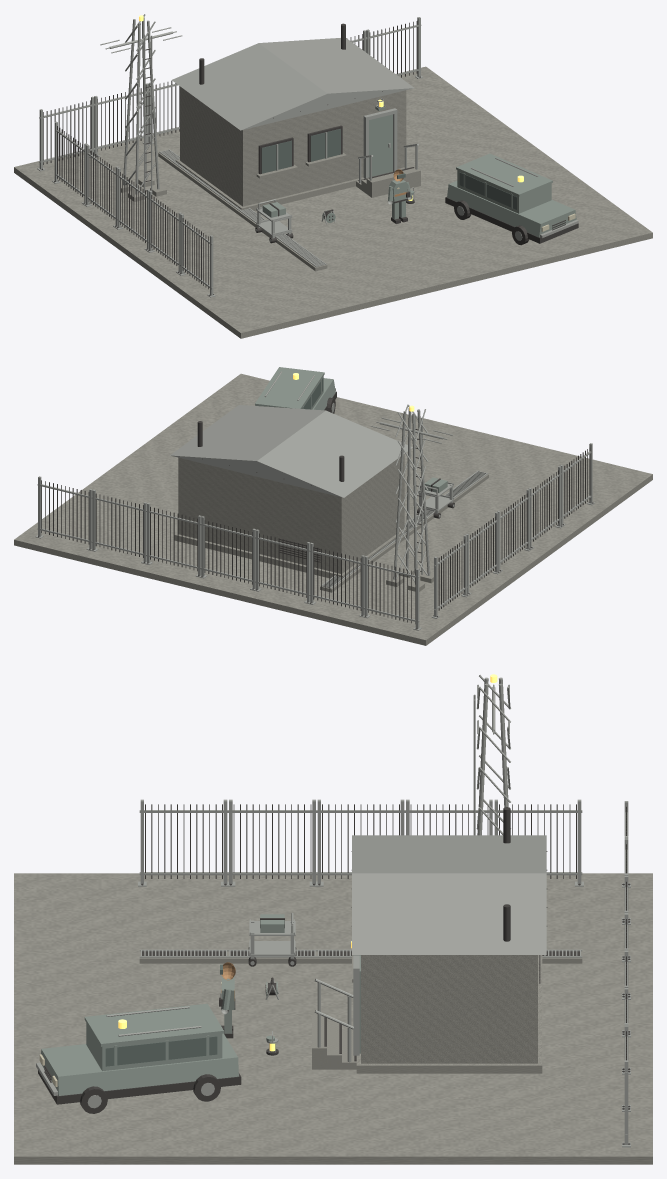
File: signal-house-starter-scene__214.glb
The picture shows the model from 3 angles, top to bottom: view 1: azimuth 30°, elevation 25°; view 2: azimuth 150°, elevation 25°; view 3: azimuth 270°, elevation 25°; orthographic projection. The views are drawn at different scales.
Visible parts, largest first — view 1: terrain-base, 01-signal-house-relay-building/stone, 01-signal-house-relay-building/metal, 04-signal-house-service-wagon/shell, 02-signal-house-relay-mast/metal, 01-signal-house-relay-building/glass, 01-signal-house-relay-building/shell, 04-signal-house-service-wagon/dark, 05-signal-house-perimeter-fence/dark, 18-signal-house-perimeter-fence/dark, 14-signal-house-perimeter-fence/dark, 16-signal-house-perimeter-fence/dark (+19 smaller); view 2: terrain-base, 01-signal-house-relay-building/stone, 01-signal-house-relay-building/metal, 02-signal-house-relay-mast/metal, 04-signal-house-service-wagon/shell, 07-signal-house-perimeter-fence/dark, 05-signal-house-perimeter-fence/dark, 10-signal-house-perimeter-fence/dark, 09-signal-house-perimeter-fence/dark, 20-signal-house-perimeter-fence/dark, 08-signal-house-perimeter-fence/dark, 11-signal-house-perimeter-fence/dark (+20 smaller); view 3: terrain-base, 01-signal-house-relay-building/metal, 01-signal-house-relay-building/stone, 04-signal-house-service-wagon/shell, 02-signal-house-relay-mast/metal, 04-signal-house-service-wagon/dark, 04-signal-house-service-wagon/glass, 03-signal-house-concrete-steps/stone, 18-signal-house-perimeter-fence/dark, 20-signal-house-perimeter-fence/dark, 20-signal-house-perimeter-fence/metal, 18-signal-house-perimeter-fence/metal (+7 smaller).
Boxes of the visible parts, <box> form: terrain-base: <box>14,66,652,338</box>; 01-signal-house-relay-building/stone: <box>175,86,410,210</box>; 01-signal-house-relay-building/metal: <box>172,38,414,178</box>; 04-signal-house-service-wagon/shell: <box>447,153,576,237</box>; 02-signal-house-relay-mast/metal: <box>100,14,182,194</box>; 01-signal-house-relay-building/glass: <box>261,129,340,173</box>; 01-signal-house-relay-building/shell: <box>369,114,392,177</box>; 04-signal-house-service-wagon/dark: <box>445,197,578,245</box>; 05-signal-house-perimeter-fence/dark: <box>41,100,90,169</box>; 18-signal-house-perimeter-fence/dark: <box>148,195,179,272</box>; 14-signal-house-perimeter-fence/dark: <box>85,149,116,226</box>; 16-signal-house-perimeter-fence/dark: <box>116,172,147,249</box>; terrain-base: <box>14,373,652,645</box>; 01-signal-house-relay-building/stone: <box>174,454,406,578</box>; 01-signal-house-relay-building/metal: <box>170,405,412,497</box>; 02-signal-house-relay-mast/metal: <box>370,404,452,584</box>; 04-signal-house-service-wagon/shell: <box>255,367,335,410</box>; 07-signal-house-perimeter-fence/dark: <box>255,533,308,602</box>; 05-signal-house-perimeter-fence/dark: <box>364,560,417,629</box>; 10-signal-house-perimeter-fence/dark: <box>92,493,144,562</box>; 09-signal-house-perimeter-fence/dark: <box>147,506,199,576</box>; 20-signal-house-perimeter-fence/dark: <box>562,447,593,525</box>; 08-signal-house-perimeter-fence/dark: <box>201,520,253,589</box>; 11-signal-house-perimeter-fence/dark: <box>38,480,90,549</box>; terrain-base: <box>14,873,652,1164</box>; 01-signal-house-relay-building/metal: <box>352,835,546,1055</box>; 01-signal-house-relay-building/stone: <box>352,955,542,1073</box>; 04-signal-house-service-wagon/shell: <box>41,1003,238,1095</box>; 02-signal-house-relay-mast/metal: <box>473,675,511,835</box>; 04-signal-house-service-wagon/dark: <box>38,1065,241,1113</box>; 04-signal-house-service-wagon/glass: <box>105,1036,217,1066</box>; 03-signal-house-concrete-steps/stone: <box>312,1014,356,1069</box>; 18-signal-house-perimeter-fence/dark: <box>229,804,315,885</box>; 20-signal-house-perimeter-fence/dark: <box>141,804,226,885</box>; 20-signal-house-perimeter-fence/metal: <box>138,799,229,886</box>; 18-signal-house-perimeter-fence/metal: <box>226,799,317,886</box>.
Size of the model in its own units: 15.14 by 6.34 by 14.44.
Materials: 8 (1 with a texture image).
